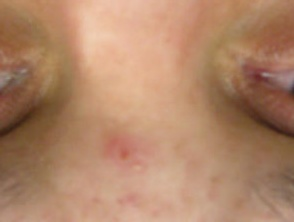SJS-TEN: (86, 110, 171, 195)
